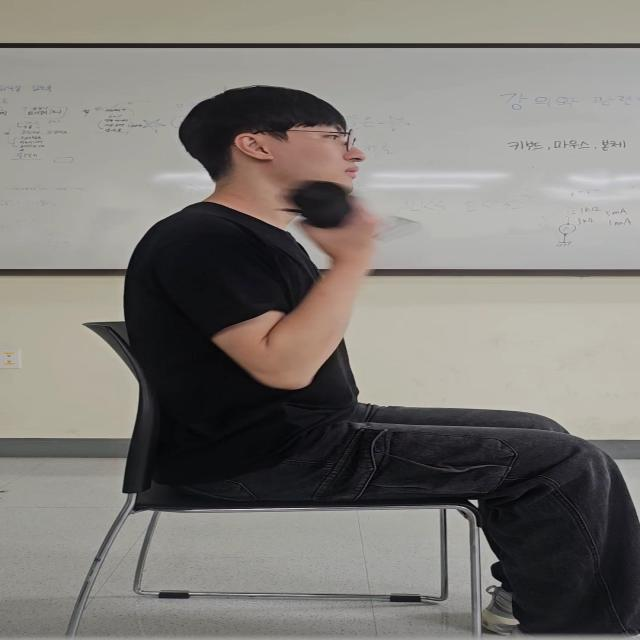curl: (158, 180, 444, 412)
